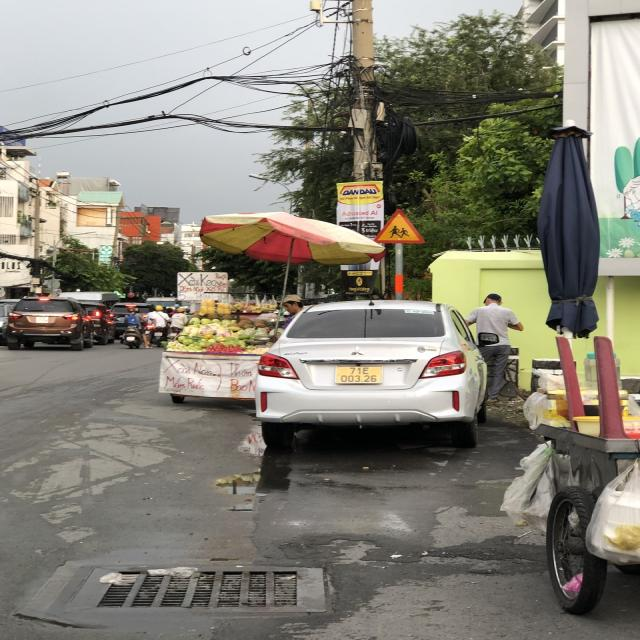Bien bao tre em: (367, 205, 430, 245)
